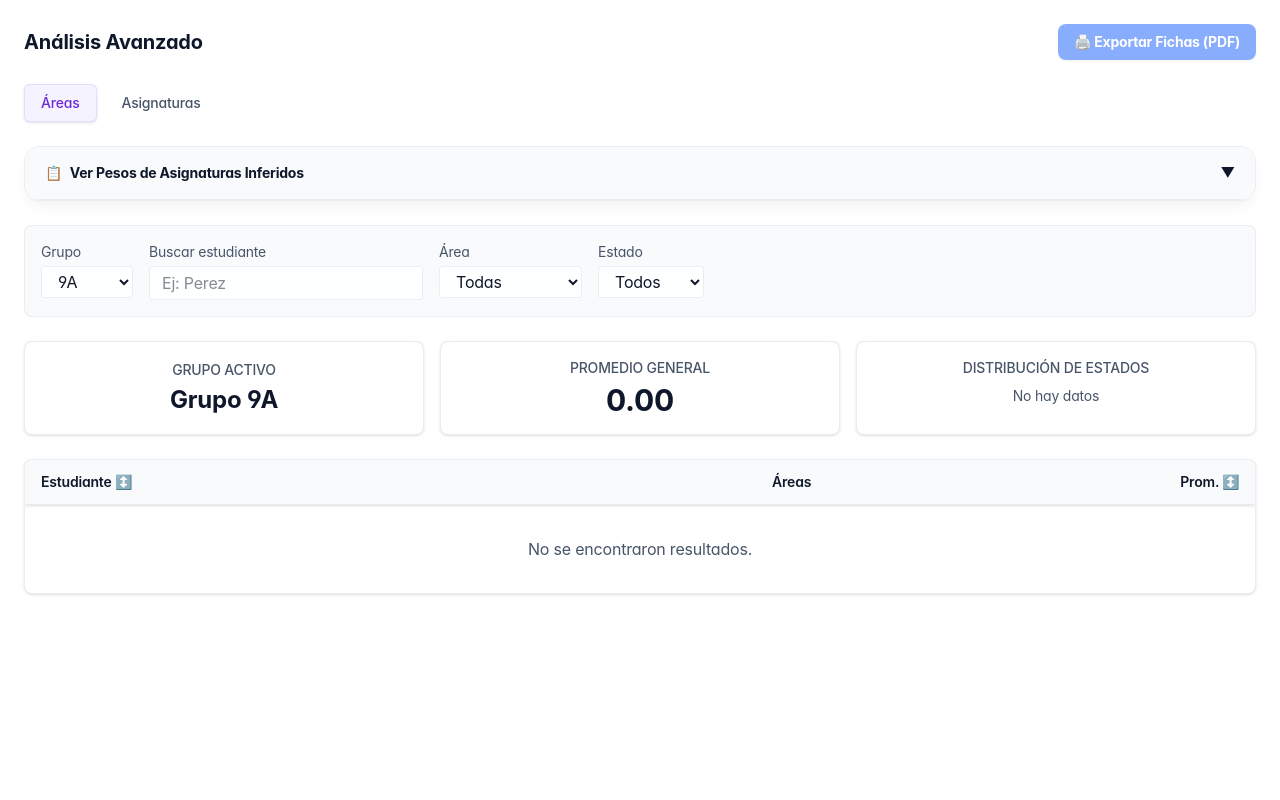
Test case: AnalysisTab › displays only selected group weights when filtered
# Expand the panel
Click the button "📋 Ver Pesos de Asignaturas Inferidos ▼".
click(187, 172)  # box [25,147,1255,200]
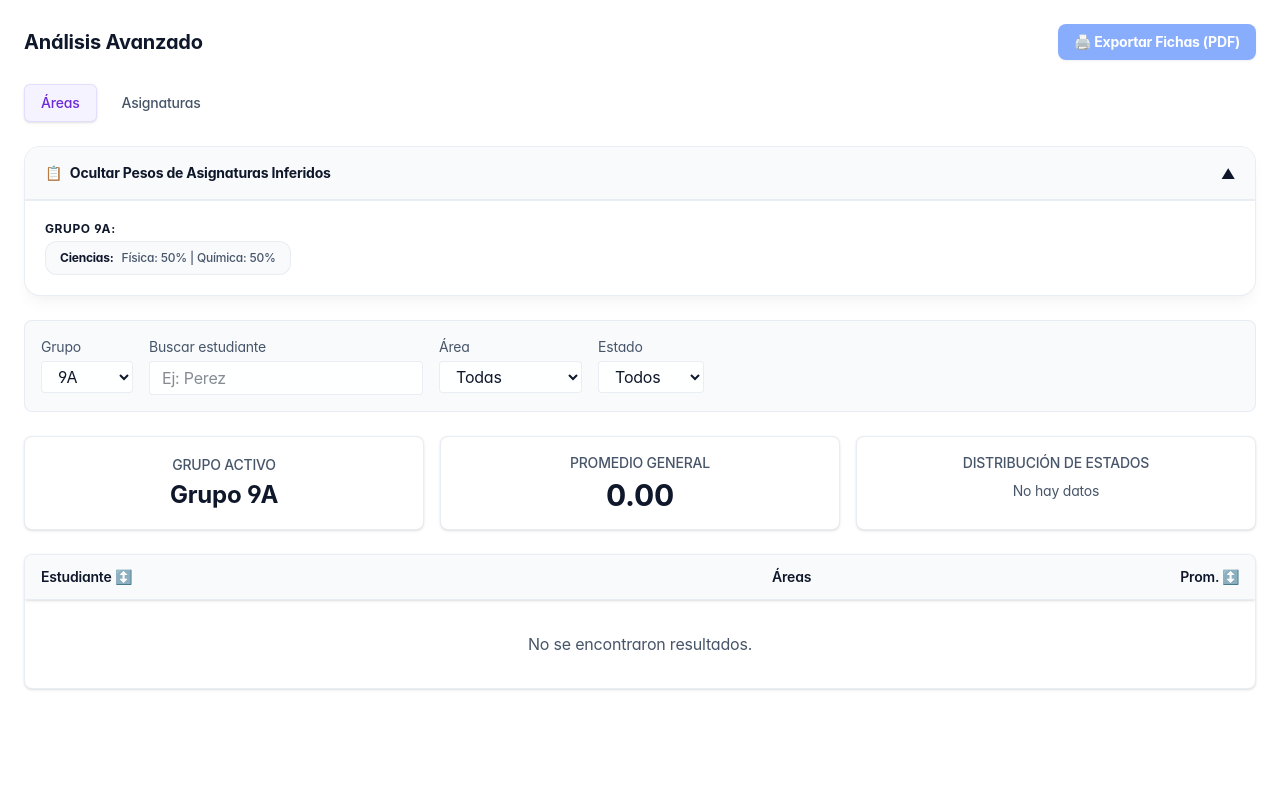
expect the text "Grupo 9A:" is shown: met, box [45,221,116,236]
expect the text "Física: 50% | Química: 50%" is shown: met, box [122,250,276,266]
